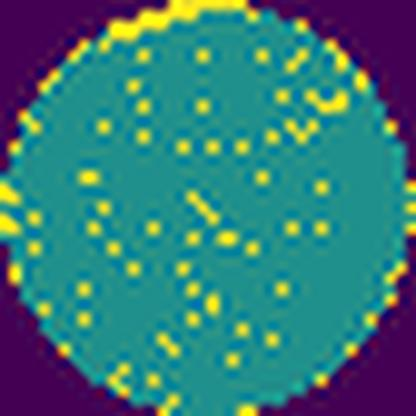Edge-Loc: (96, 0, 267, 57)
